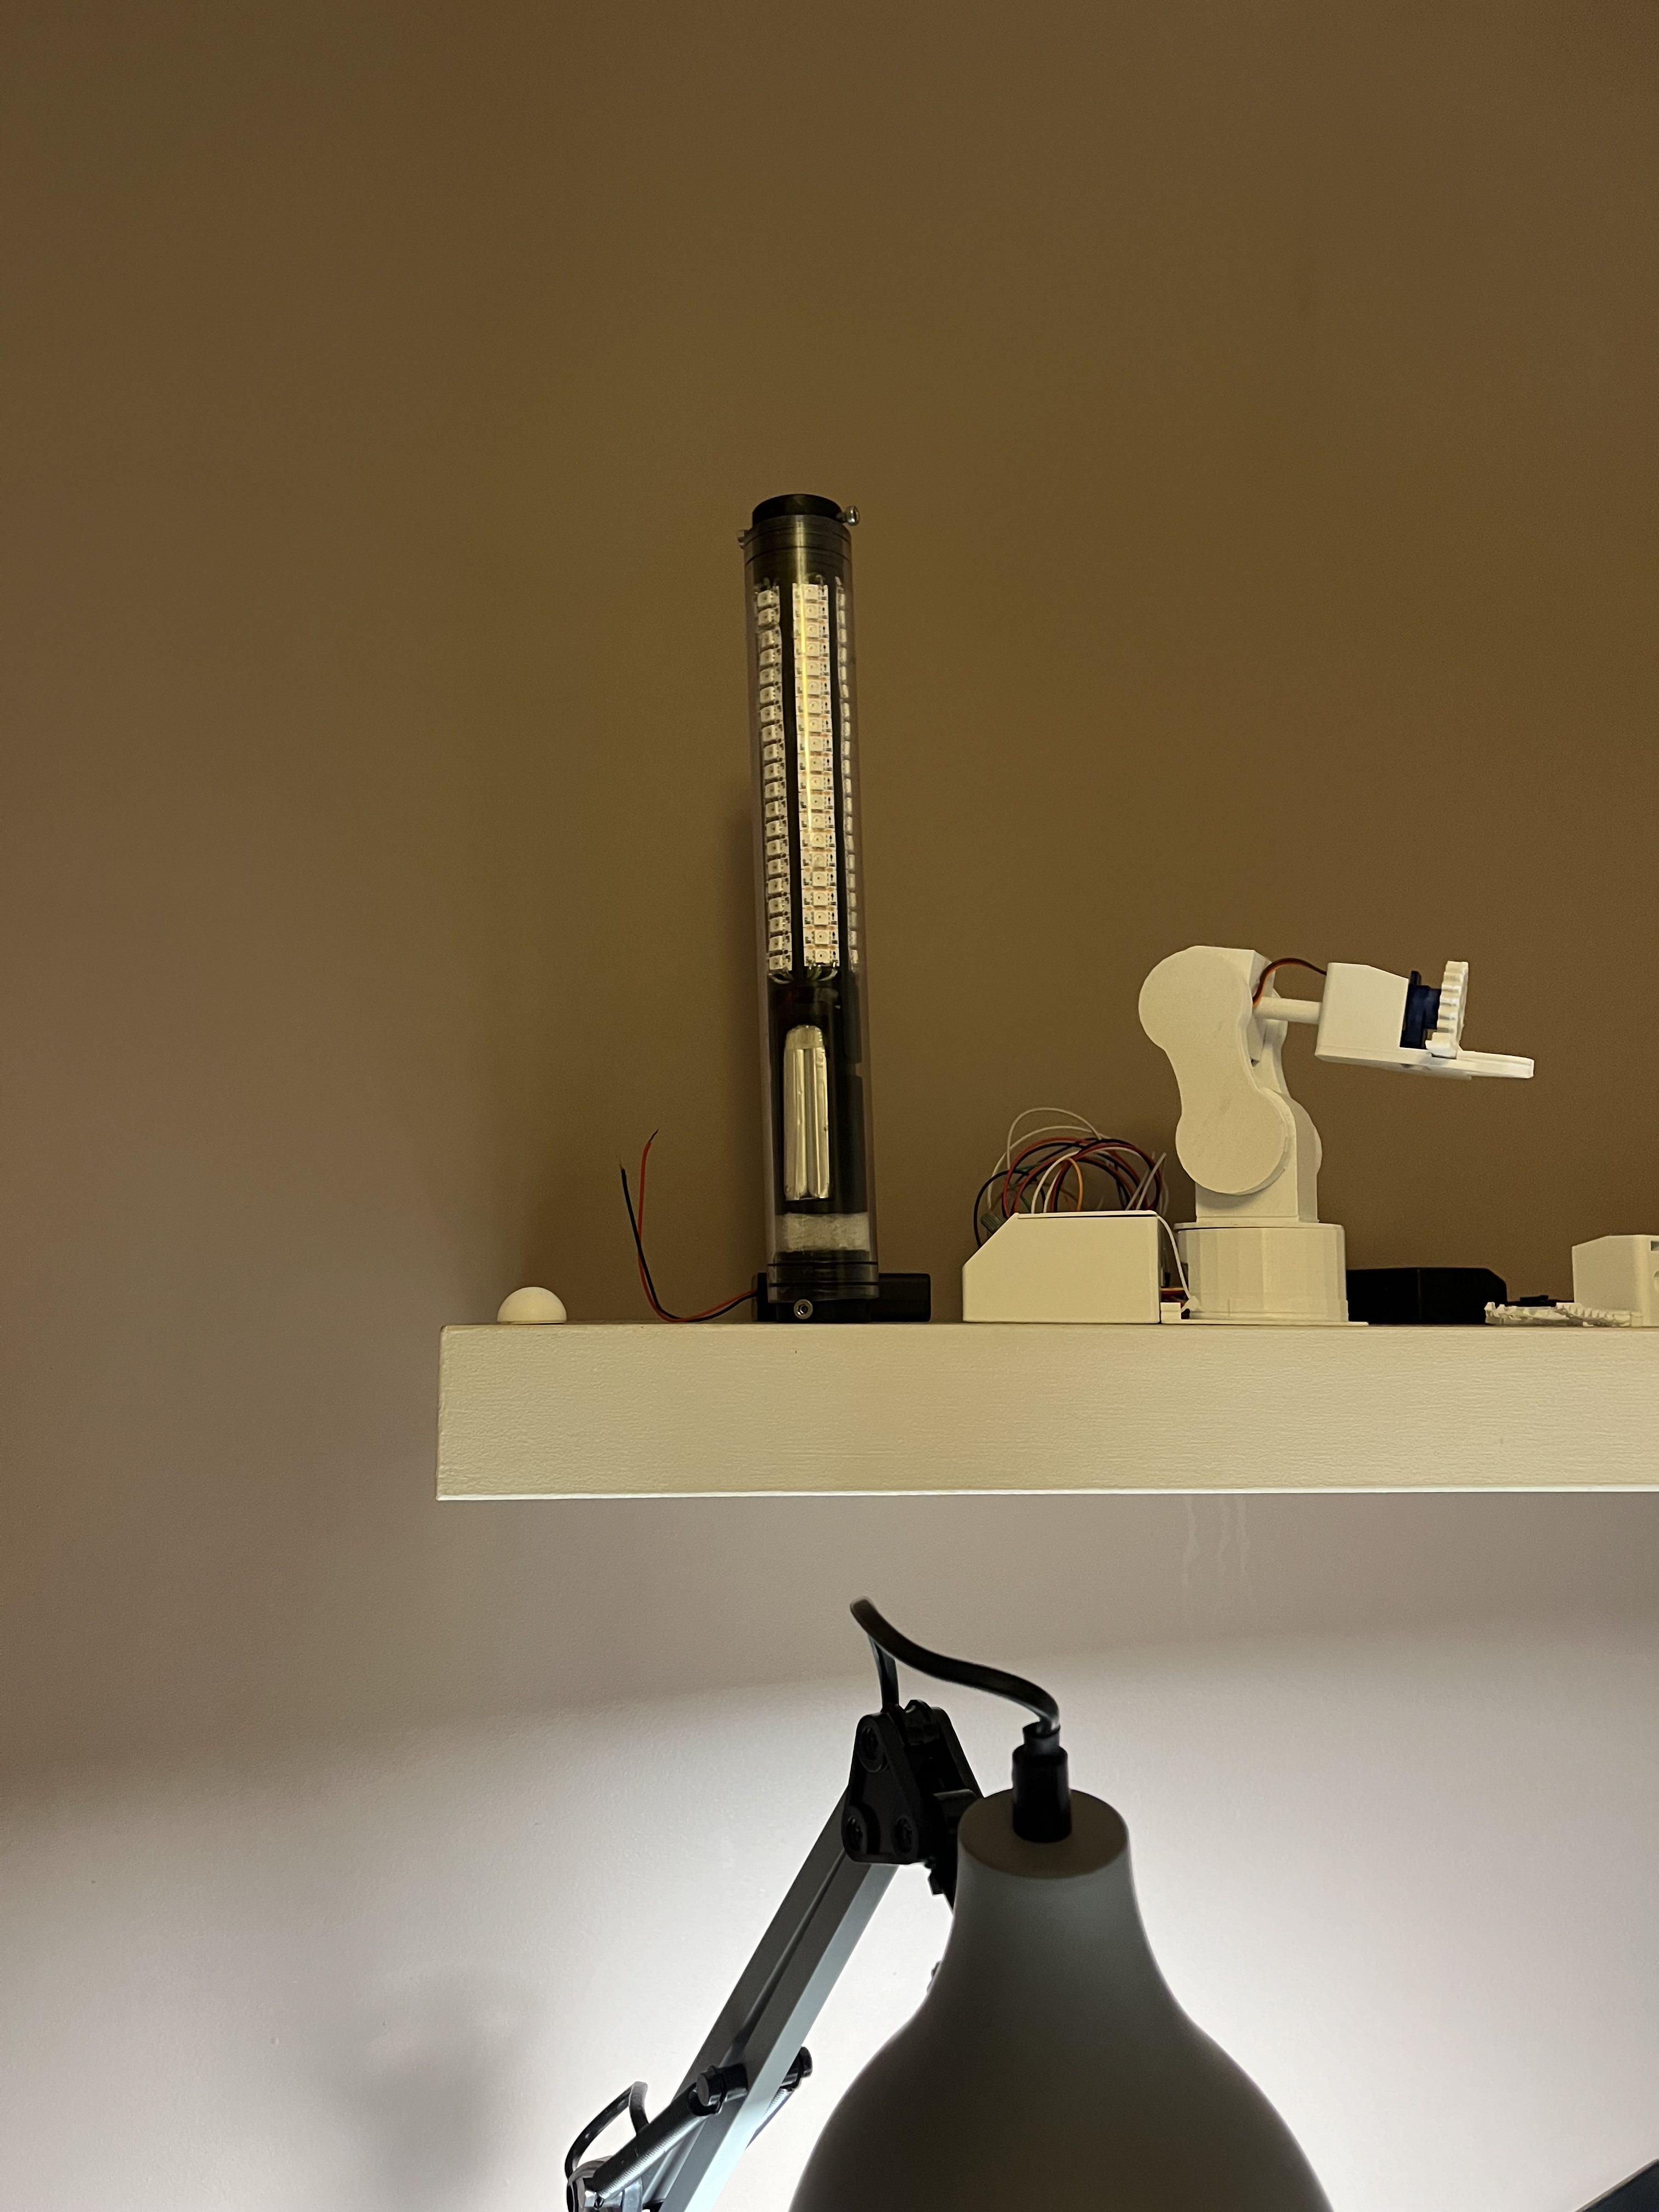black: (744, 533, 878, 1320)
